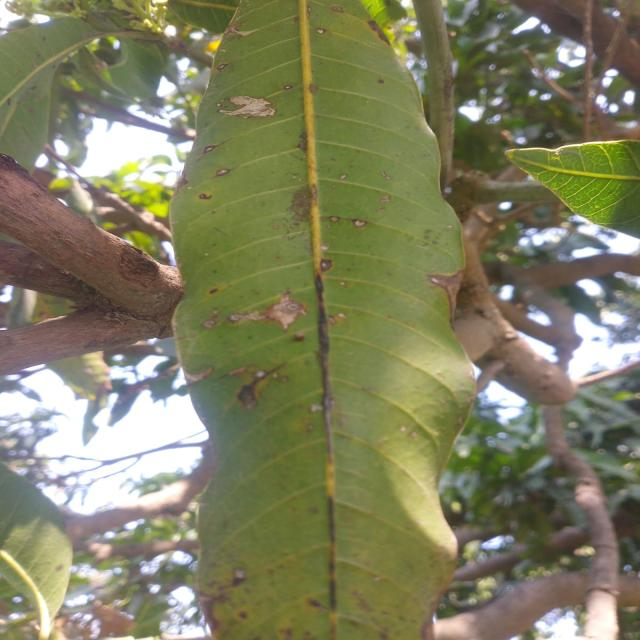Anthracnose: (228, 380, 271, 407), (229, 571, 249, 586), (318, 257, 335, 273), (199, 193, 215, 201), (208, 288, 218, 295)
Bacterial Cancer: (237, 292, 313, 329), (224, 95, 282, 121)
